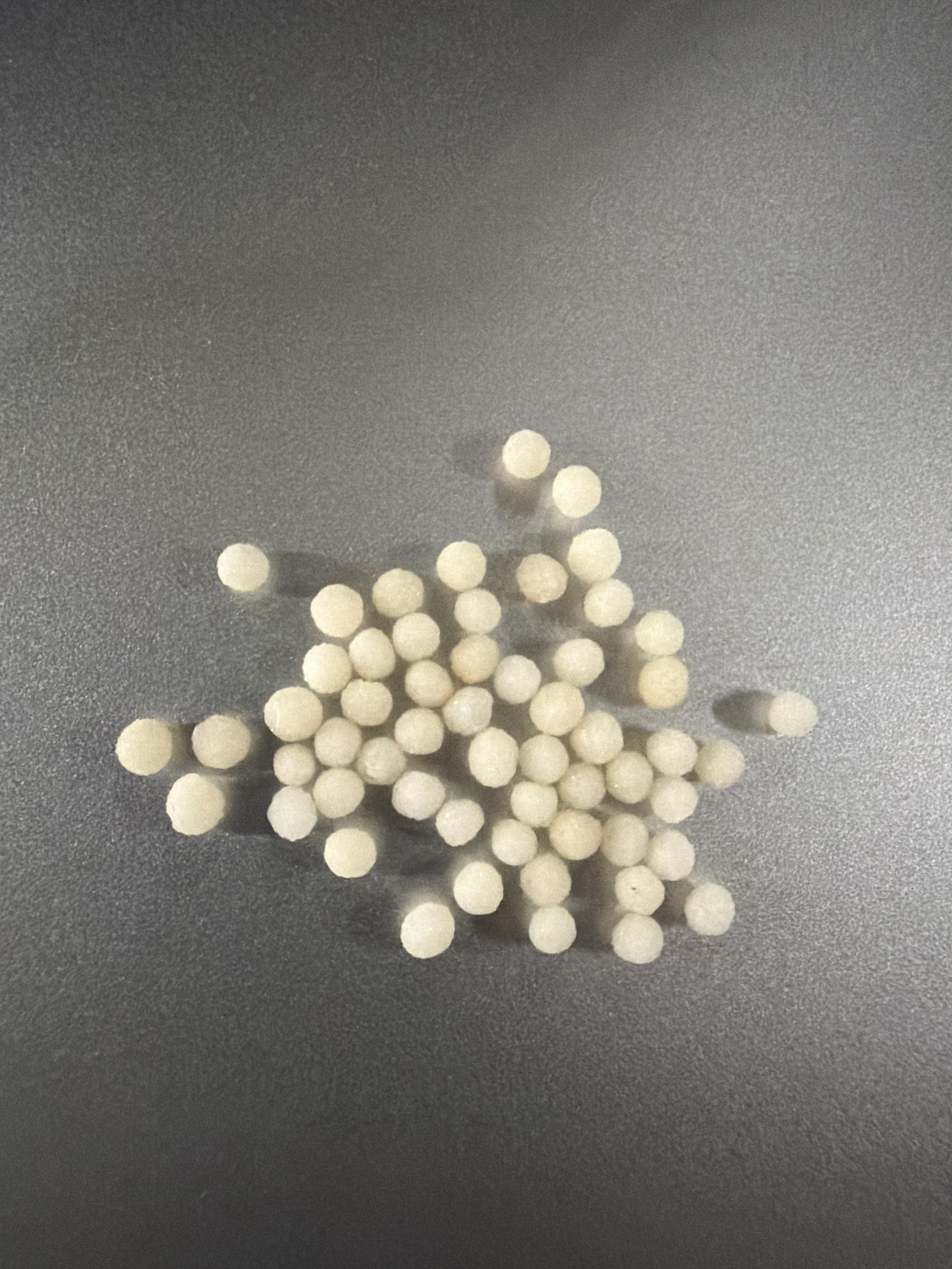pill: (166, 773, 225, 835), (115, 718, 174, 776), (191, 715, 253, 770), (264, 686, 323, 742), (401, 901, 455, 959), (529, 681, 585, 736), (467, 727, 518, 787), (567, 528, 620, 584), (310, 583, 363, 638), (569, 712, 623, 765), (519, 852, 571, 907), (548, 809, 602, 860), (323, 827, 377, 878), (453, 860, 503, 915), (267, 786, 317, 841), (684, 883, 735, 936), (391, 771, 446, 820), (611, 913, 663, 964), (312, 768, 364, 819), (645, 828, 695, 881), (637, 656, 687, 709), (515, 554, 568, 604), (371, 568, 424, 618), (519, 733, 570, 784), (302, 643, 353, 694), (552, 638, 604, 688), (605, 751, 654, 804), (552, 465, 601, 518), (217, 544, 270, 593), (601, 813, 649, 867), (615, 864, 665, 915), (694, 739, 745, 789), (442, 686, 493, 736), (355, 736, 406, 786), (348, 627, 396, 680), (583, 578, 633, 628), (450, 634, 500, 684), (436, 541, 486, 591), (645, 729, 698, 776), (391, 612, 440, 662), (341, 679, 392, 727), (502, 429, 550, 480), (404, 660, 453, 709), (493, 654, 541, 704), (394, 707, 444, 755), (314, 717, 362, 767), (528, 905, 576, 954), (436, 798, 484, 847), (634, 610, 684, 657), (510, 781, 558, 829), (649, 776, 698, 823), (767, 692, 818, 737), (558, 763, 605, 810), (491, 819, 537, 867), (454, 588, 502, 634), (273, 743, 316, 786)
